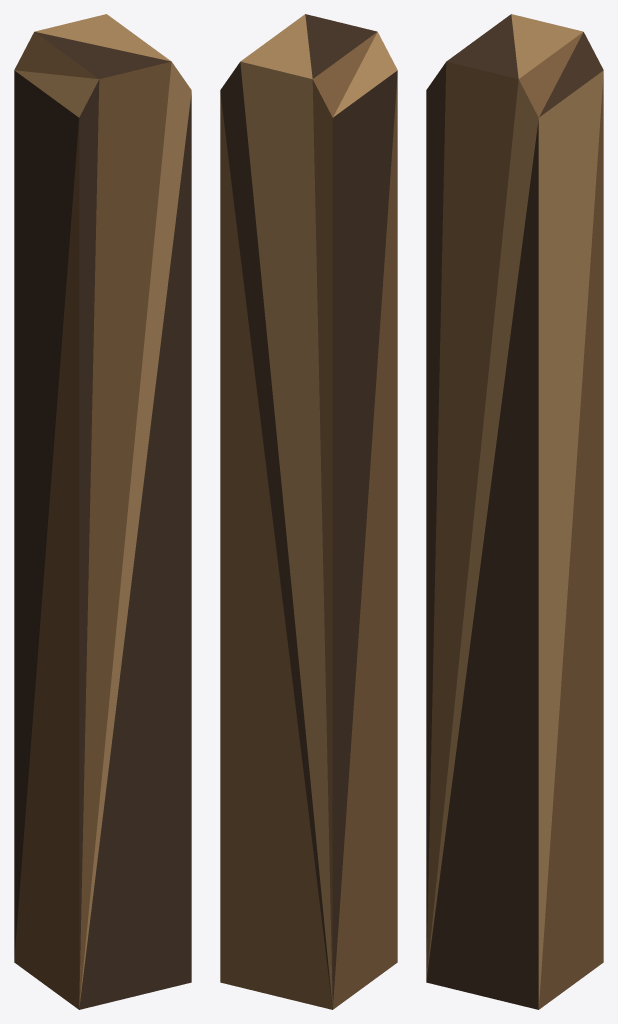
File: TW_TERMINAL_POST.glb
3 views of the same model, side by side, from view 1: azimuth 30°, elevation 25°; view 2: azimuth 150°, elevation 25°; view 3: azimuth 330°, elevation 25° (orthographic).
Parts seen in each view (by area): view 1: TW_TERMINAL_POST_LOD0; view 2: TW_TERMINAL_POST_LOD0; view 3: TW_TERMINAL_POST_LOD0.
Part boxes in pixels (x1=…): TW_TERMINAL_POST_LOD0: x1=14, y1=14, x2=191, y2=1009; TW_TERMINAL_POST_LOD0: x1=220, y1=14, x2=397, y2=1009; TW_TERMINAL_POST_LOD0: x1=426, y1=14, x2=603, y2=1009.
Size of the model in its own units: 0.14 by 1.1 by 0.14.
Materials: 1 (1 with a texture image).
